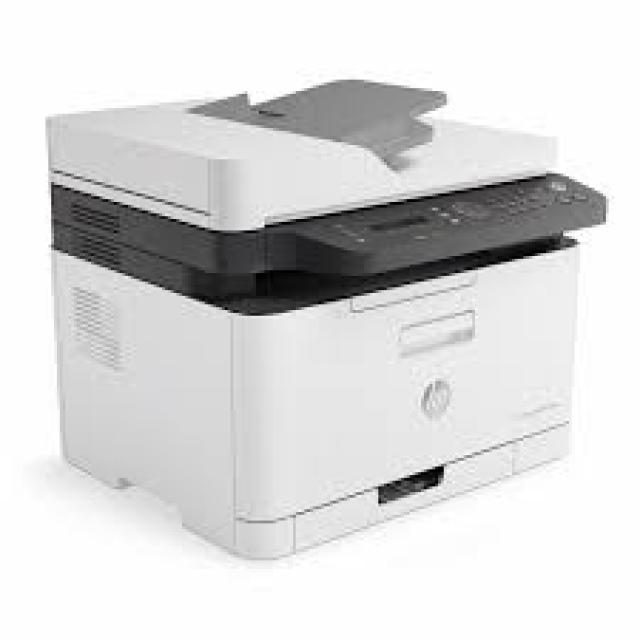printer: (42, 74, 608, 560)
